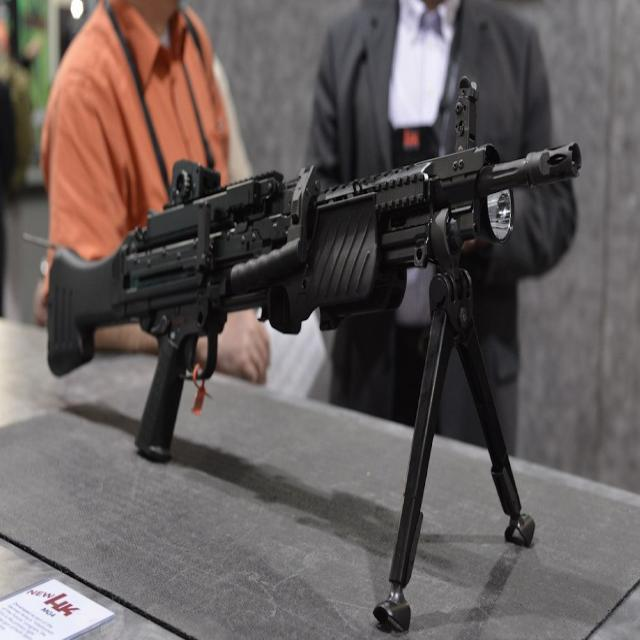firearm: (46, 71, 584, 636)
